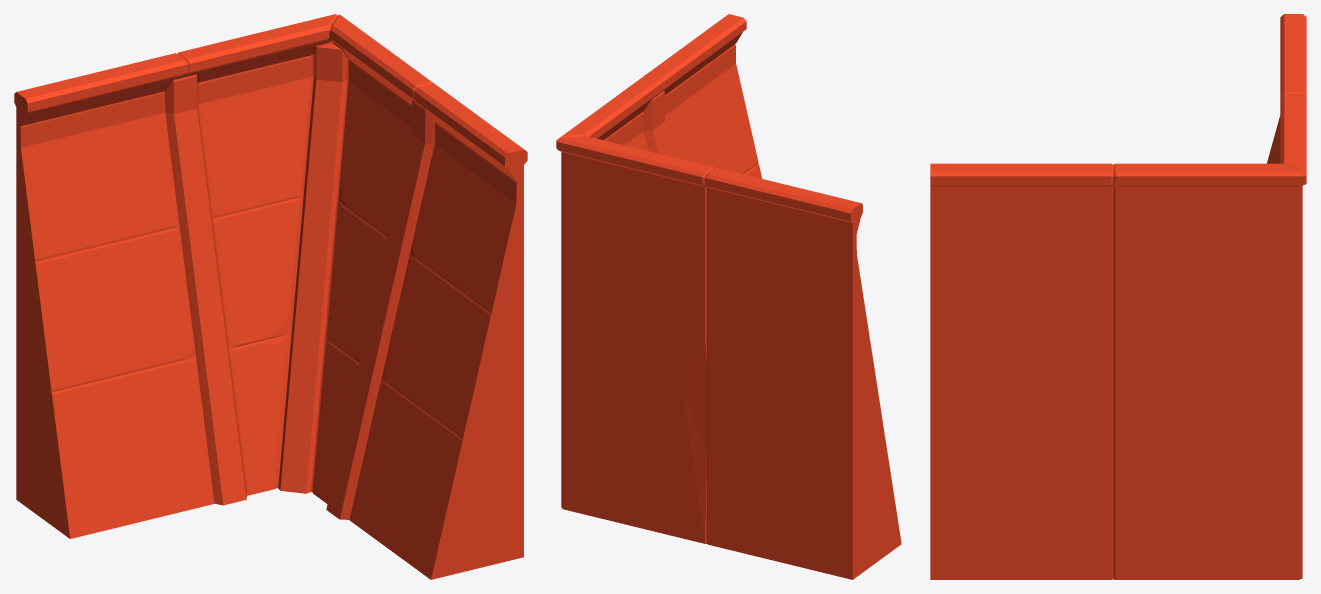
The model's file is SM_Wall_Corner_Inner_Short_City.fbx.
3 renders of one model, left to right at view 1: azimuth 30°, elevation 25°; view 2: azimuth 150°, elevation 25°; view 3: azimuth 270°, elevation 25°, orthographic. The views are drawn at different scales.
Parts seen in each view (by area): view 1: SM_Wall_Corner_Inner_Short_City; view 2: SM_Wall_Corner_Inner_Short_City; view 3: SM_Wall_Corner_Inner_Short_City.
Part boxes in pixels (x1=…): SM_Wall_Corner_Inner_Short_City: x1=14, y1=14, x2=527, y2=579; SM_Wall_Corner_Inner_Short_City: x1=556, y1=14, x2=901, y2=579; SM_Wall_Corner_Inner_Short_City: x1=930, y1=14, x2=1306, y2=579.
Bounding box in the file's own units: 10.11 × 12.1 × 10.11.
